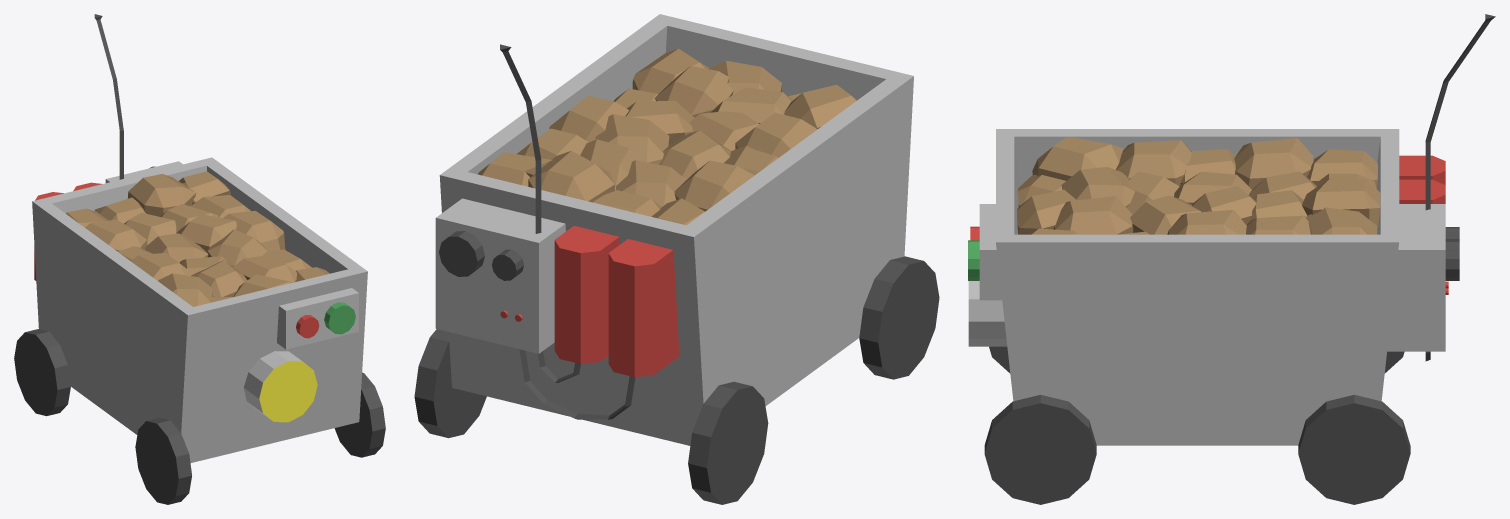
Rendered from minecart.glb.
3 renders of one model, left to right at view 1: azimuth 30°, elevation 25°; view 2: azimuth 150°, elevation 25°; view 3: azimuth 270°, elevation 25°, orthographic. The views are drawn at different scales.
Visible parts, largest first — view 1: minecart, ruda; view 2: minecart, ruda; view 3: minecart, ruda.
Boxes of the visible parts, bbox=[...] form: minecart: bbox=[14, 14, 385, 504]; ruda: bbox=[66, 171, 329, 306]; minecart: bbox=[414, 14, 939, 504]; ruda: bbox=[478, 48, 857, 225]; minecart: bbox=[968, 14, 1495, 504]; ruda: bbox=[1017, 136, 1380, 234].
Bounding box in the file's own units: 1.38 × 2.11 × 2.36.
Materials: 1 (1 with a texture image).
